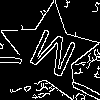M: (23, 28, 80, 87)
